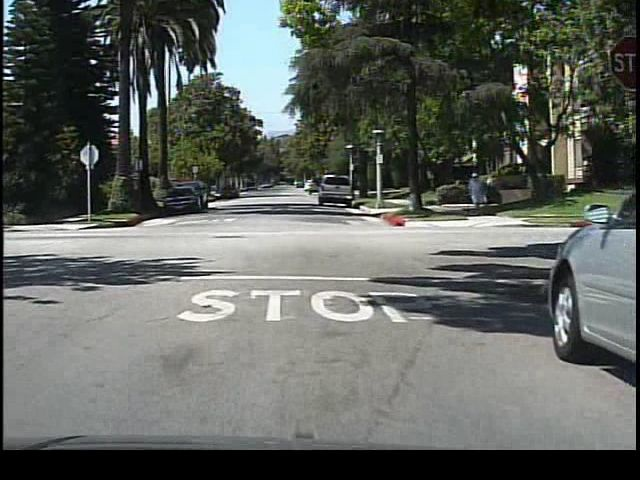person: (465, 168, 486, 216)
